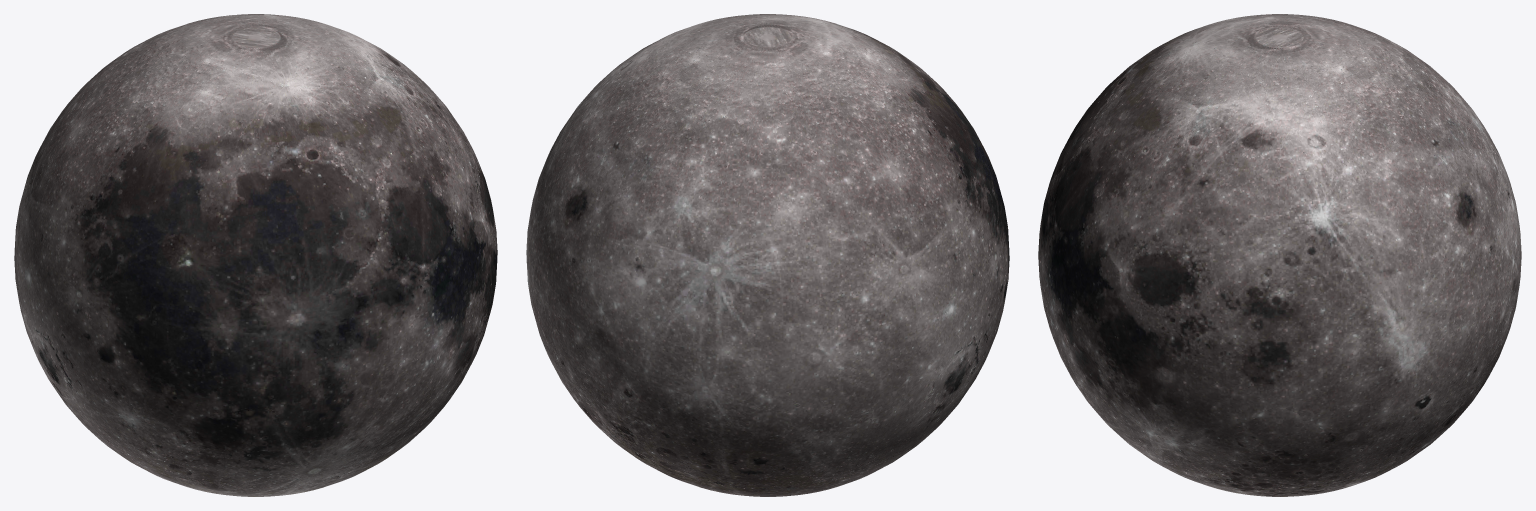
Rendered from Moon.glb.
3 renders of one model, left to right at view 1: azimuth 30°, elevation 25°; view 2: azimuth 150°, elevation 25°; view 3: azimuth 270°, elevation 25°, orthographic.
Visible parts, largest first — view 1: Moon, Moon_Lod; view 2: Moon, Moon_Lod; view 3: Moon, Moon_Lod.
Part boxes in pixels (box(x1,y1,x2,y2)): Moon: box(14, 14, 497, 496); Moon_Lod: box(19, 20, 496, 490); Moon: box(526, 14, 1009, 496); Moon_Lod: box(527, 20, 1004, 490); Moon: box(1038, 14, 1521, 496); Moon_Lod: box(1048, 17, 1511, 495).
Bounding box in the file's own units: 2 × 2 × 2.
Materials: 2 (2 with a texture image).
